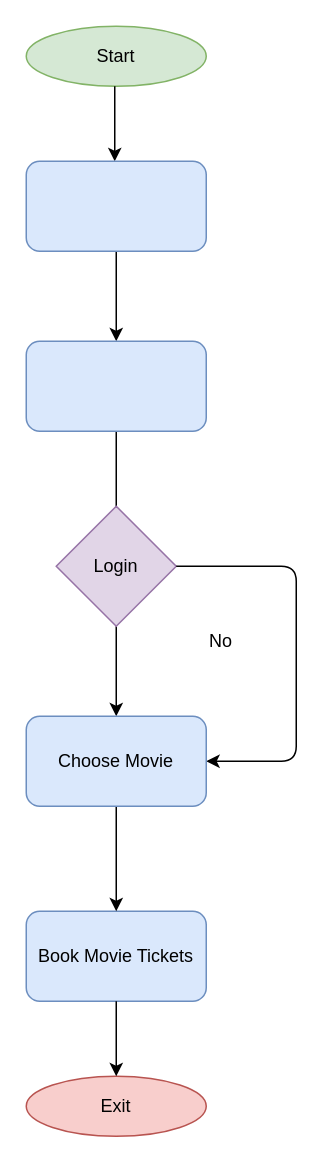
The diagram is 335 pixels wide and 1163 high, and some of its shapes have lost their labels. The shapes that lost their labels are listed below. From the top down, each one's centre as x and y in pixels, then its label:
At point (115, 205): "Home Page".
At point (115, 385): "Choose Location".
